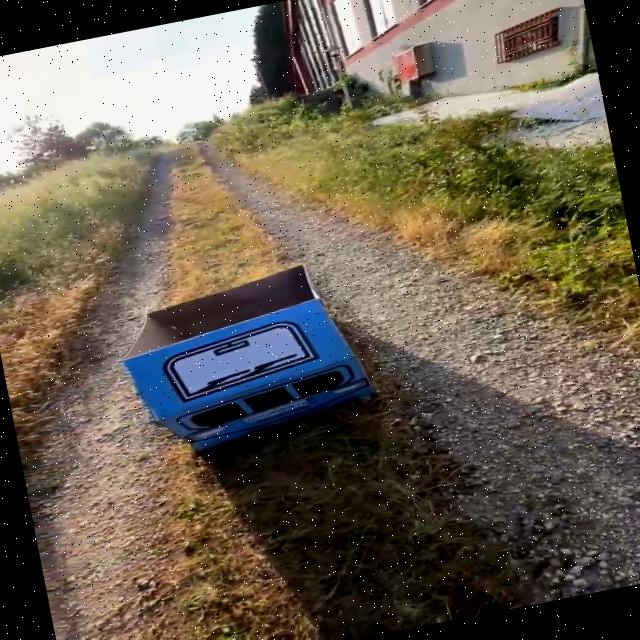blue_car: (74, 207, 506, 512)
